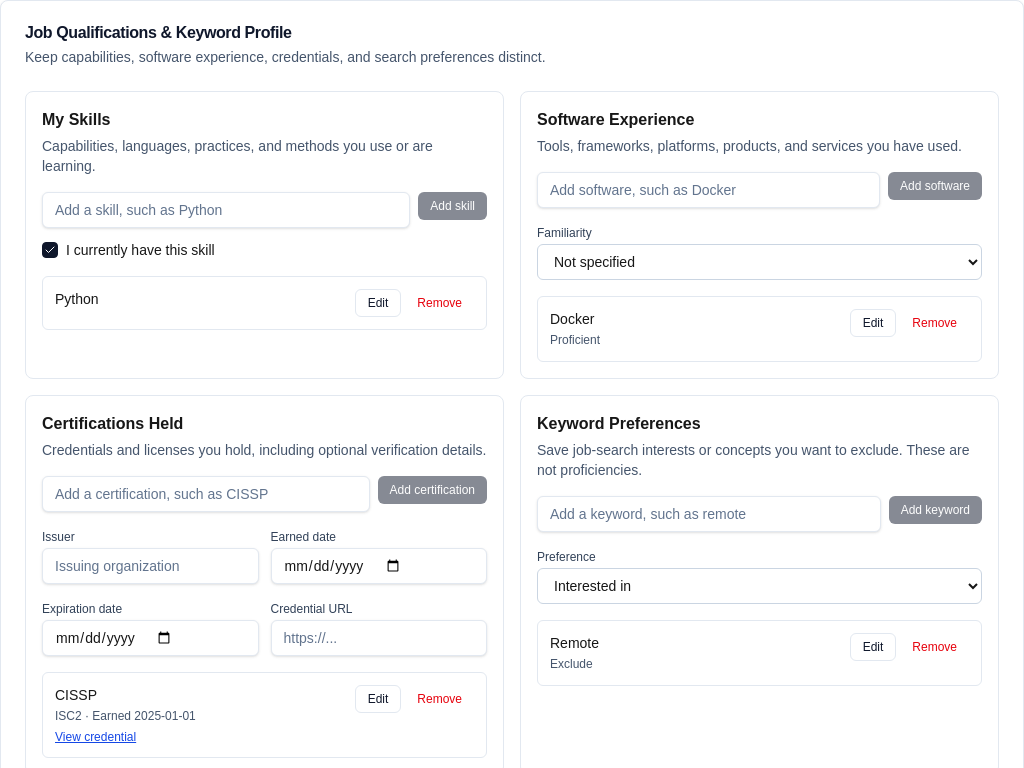
Scenario: TaxonomyProfileSettings › starts a new edit from refetched metadata instead of a stale closed draft
This screenshot has width=1024, height=768.
What coordinates should you click on to do the following:
click the button named "Edit Remote"
I would click on:
 (873, 647)
Its box is x1=850 y1=633 x2=896 y2=661.
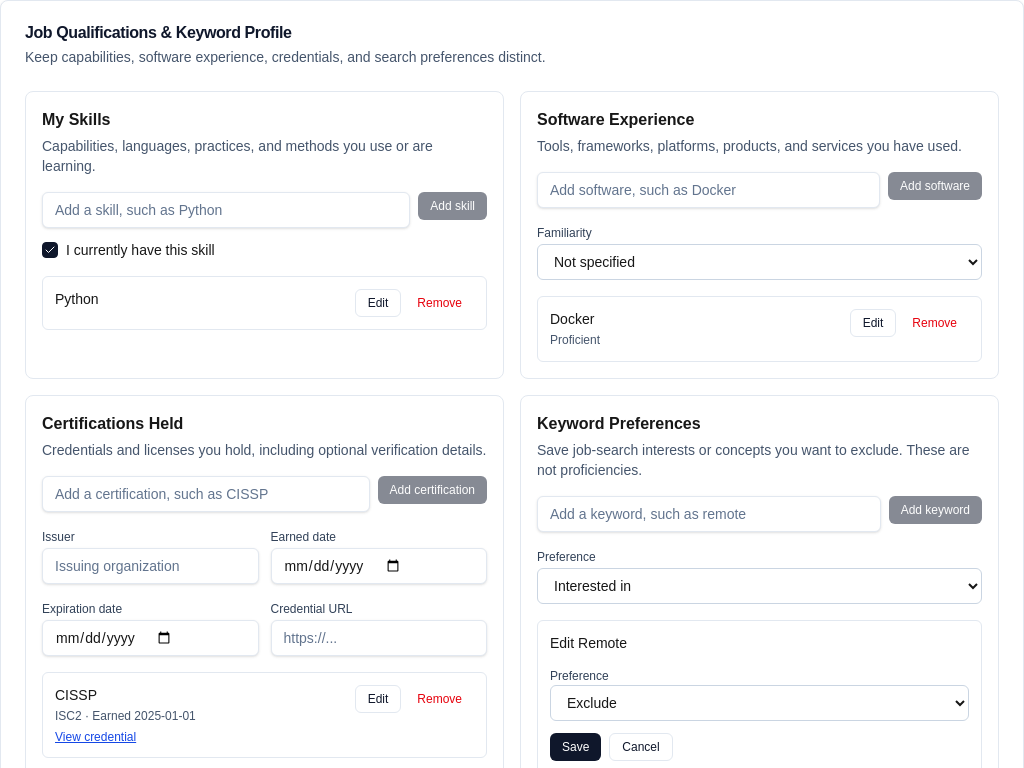
Result: the dropdown labelled "Preference" below "Remote" shows "Exclude" at x1=550 y1=685 x2=969 y2=721
